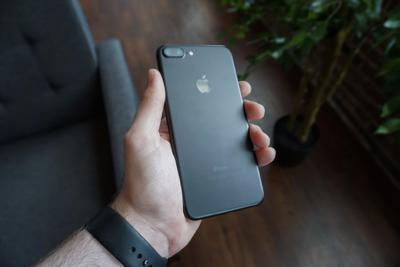cell-phone: (154, 40, 270, 221)
